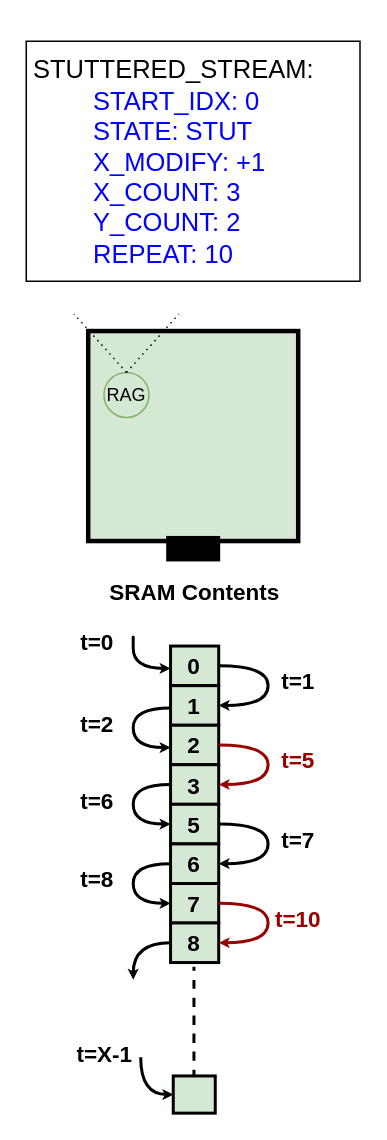
Image size: 387x1140. Some labels were removed from this diagram. Here are the shapes that lost their labels. From the top down, the box of each, then its label:
(85, 328, 300, 543): C0
(171, 1074, 216, 1114): X-1
